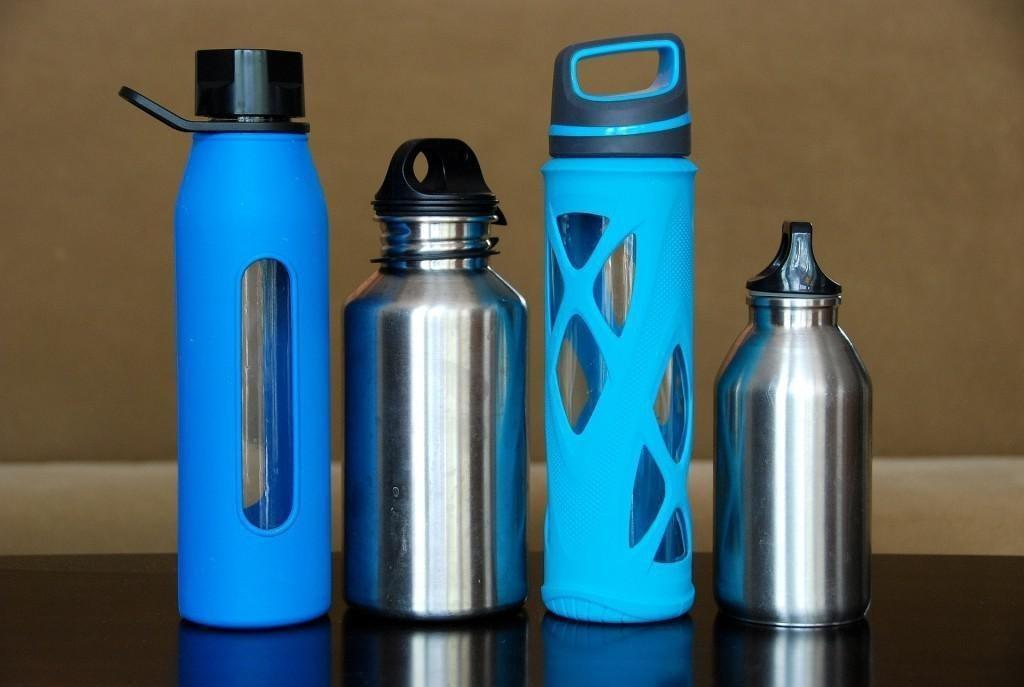gym bottle: (164, 43, 336, 631), (537, 32, 701, 626), (339, 134, 533, 623), (710, 220, 879, 629)
